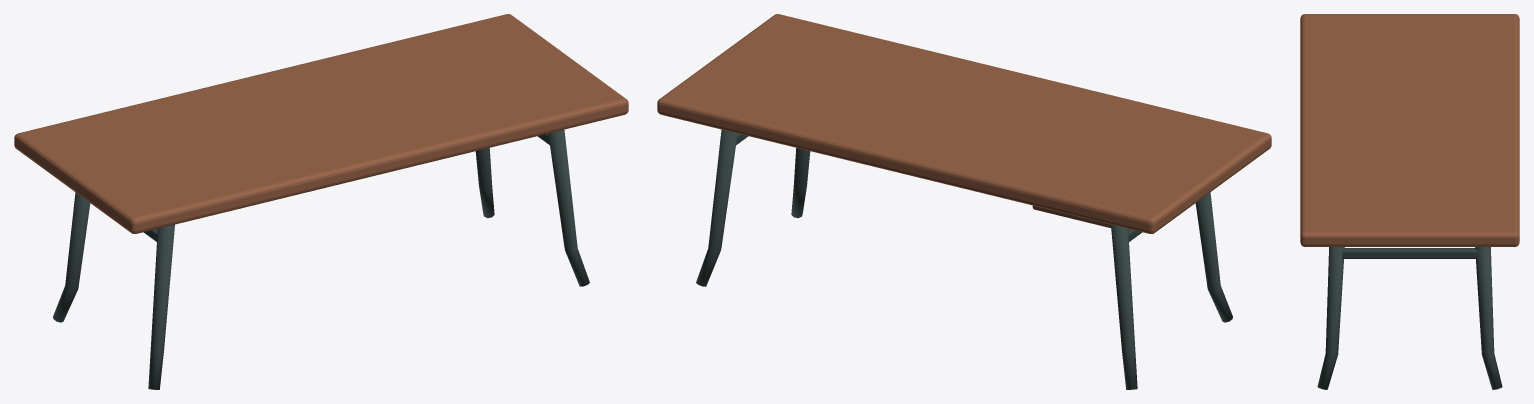
Rendered from walnut_workstation.glb.
3 renders of one model, left to right at view 1: azimuth 30°, elevation 25°; view 2: azimuth 150°, elevation 25°; view 3: azimuth 270°, elevation 25°, orthographic. The views are drawn at different scales.
Visible parts, largest first — view 1: Solid walnut top, Tapered metal leg, Tapered metal leg.002, Tapered metal leg.001, Tapered metal leg.003; view 2: Solid walnut top, Tapered metal leg.001, Tapered metal leg.003, Tapered metal leg, Tapered metal leg.002; view 3: Solid walnut top, Tapered metal leg.002, Tapered metal leg.003, Trestle bar.001.
Part boxes in pixels (<box>): Solid walnut top: <box>14,14,628,233</box>; Tapered metal leg: <box>148,224,174,389</box>; Tapered metal leg.002: <box>548,129,589,286</box>; Tapered metal leg.001: <box>53,192,90,322</box>; Tapered metal leg.003: <box>475,148,494,218</box>; Solid walnut top: <box>657,14,1271,233</box>; Tapered metal leg.001: <box>1111,224,1137,389</box>; Tapered metal leg.003: <box>696,129,737,286</box>; Tapered metal leg: <box>1195,192,1232,322</box>; Tapered metal leg.002: <box>791,148,810,218</box>; Solid walnut top: <box>1300,14,1519,246</box>; Tapered metal leg.002: <box>1317,247,1344,389</box>; Tapered metal leg.003: <box>1475,247,1502,389</box>; Trestle bar.001: <box>1342,248,1477,258</box>.
Bounding box in the file's own units: 2.25 × 0.8092 × 0.94.
